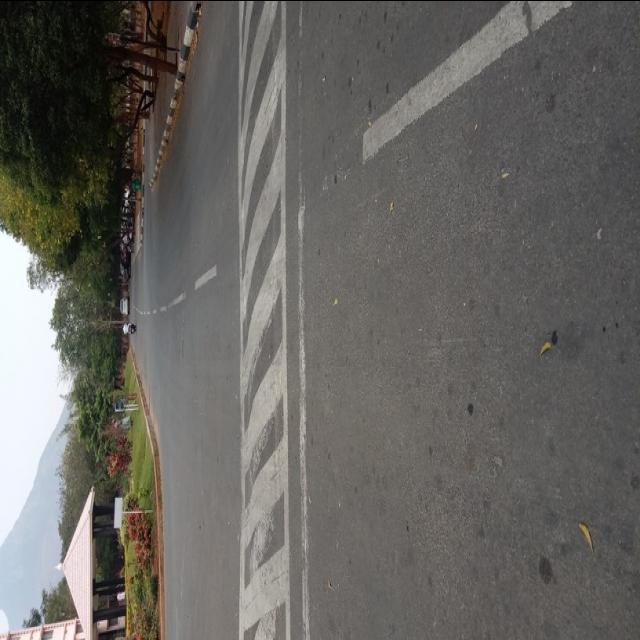speedbreaker: (232, 0, 290, 640)
